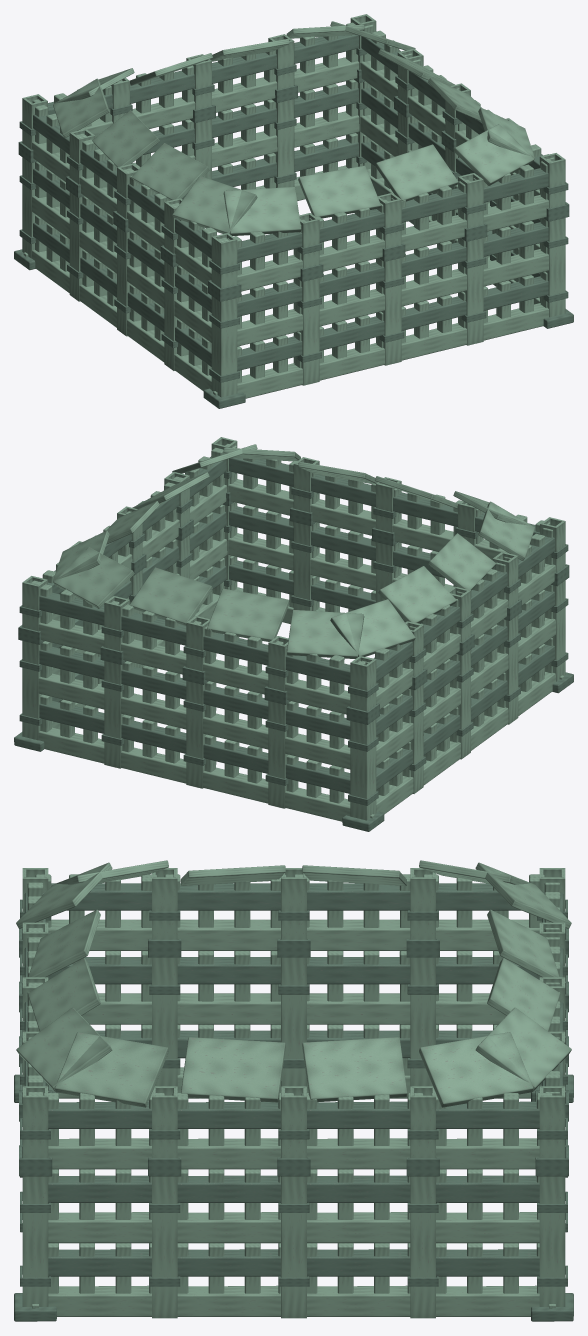
The picture shows the model from 3 angles, top to bottom: view 1: azimuth 30°, elevation 25°; view 2: azimuth 150°, elevation 25°; view 3: azimuth 270°, elevation 25°; orthographic projection. The views are drawn at different scales.
Visible parts, largest first — view 1: Crown alloy petal 0-1, Crown alloy petal 0-0, Crown alloy petal 0-2, Crown alloy petal 3-3, Crown alloy petal 3-2, Crown alloy petal 0-3, Tier 0 side 0 post 0, Crown alloy petal 3-1, Crown alloy petal 3-0, Tier 0 side 0 post 1, Tier 0 side 0 post 2, Tier 0 side 0 post 3 (+96 smaller); view 2: Crown alloy petal 2-2, Crown alloy petal 2-3, Crown alloy petal 2-1, Crown alloy petal 3-0, Crown alloy petal 3-1, Crown alloy petal 2-0, Tier 0 side 3 post 0, Crown alloy petal 3-2, Crown alloy petal 3-3, Tier 0 side 2 post 2, Tier 0 side 2 post 3, Tier 0 side 2 post 1 (+96 smaller); view 3: Crown alloy petal 1-1, Crown alloy petal 1-2, Crown alloy petal 1-3, Crown alloy petal 1-0, Crown alloy petal 0-3, Crown alloy petal 2-0, Tier 0 side 1 post 1, Tier 0 side 1 post 2, Tier 0 side 1 post 3, Tier 0 side 1 post 0, Tier 0 side 2 post 0, Tier 0 bay 1-1-1 shield lower edge (+73 smaller).
Boxes of the visible parts, x1,y1,x2,y2 form: Crown alloy petal 0-1: [298, 165, 380, 218]; Crown alloy petal 0-0: [223, 186, 301, 235]; Crown alloy petal 0-2: [375, 144, 458, 201]; Crown alloy petal 3-3: [172, 176, 257, 233]; Crown alloy petal 3-2: [131, 143, 209, 200]; Crown alloy petal 0-3: [453, 124, 534, 185]; Tier 0 side 0 post 0: [211, 296, 237, 397]; Crown alloy petal 3-1: [92, 110, 159, 167]; Crown alloy petal 3-0: [53, 78, 109, 137]; Tier 0 side 0 post 1: [293, 278, 319, 385]; Tier 0 side 0 post 2: [376, 258, 401, 365]; Tier 0 side 0 post 3: [458, 238, 483, 345]; Crown alloy petal 2-2: [207, 588, 289, 641]; Crown alloy petal 2-3: [286, 609, 364, 658]; Crown alloy petal 2-1: [129, 567, 212, 625]; Crown alloy petal 3-0: [330, 599, 415, 656]; Crown alloy petal 3-1: [378, 566, 456, 623]; Crown alloy petal 2-0: [53, 547, 134, 608]; Tier 0 side 3 post 0: [350, 719, 376, 820]; Crown alloy petal 3-2: [428, 533, 496, 590]; Crown alloy petal 3-3: [478, 501, 534, 560]; Tier 0 side 2 post 2: [186, 681, 206, 788]; Tier 0 side 2 post 3: [268, 701, 288, 808]; Tier 0 side 2 post 1: [104, 661, 124, 768]; Crown alloy petal 1-1: [181, 1037, 285, 1102]; Crown alloy petal 1-2: [302, 1037, 407, 1102]; Crown alloy petal 1-3: [419, 1032, 533, 1107]; Crown alloy petal 1-0: [54, 1032, 168, 1107]; Crown alloy petal 0-3: [16, 1007, 112, 1091]; Crown alloy petal 2-0: [475, 1007, 571, 1091]; Tier 0 side 1 post 1: [152, 1176, 177, 1318]; Tier 0 side 1 post 2: [281, 1176, 306, 1318]; Tier 0 side 1 post 3: [410, 1176, 435, 1318]; Tier 0 side 1 post 0: [22, 1176, 48, 1306]; Tier 0 side 2 post 0: [539, 1176, 565, 1306]; Tier 0 bay 1-1-1 shield lower edge: [177, 1212, 280, 1243].
Bounding box in the file's own units: 1.95 × 0.9601 × 1.95.
Materials: 2 (2 with a texture image).
